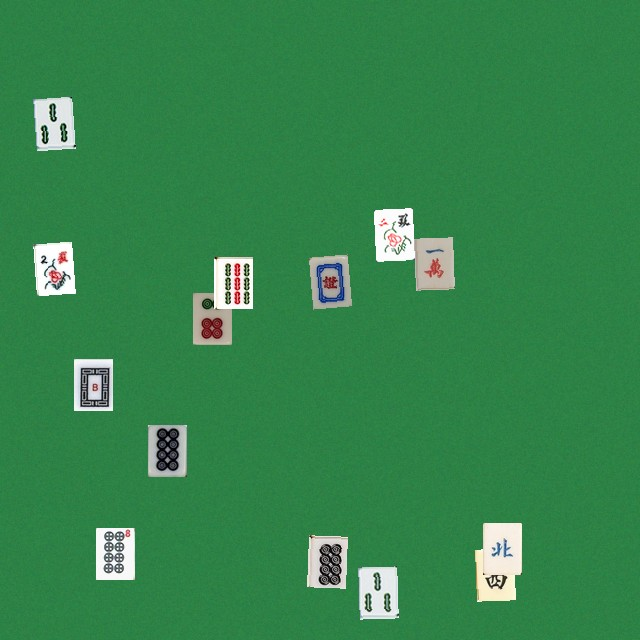tile: (358, 566, 397, 618), (33, 96, 72, 148), (307, 535, 346, 587), (33, 241, 72, 293), (192, 292, 231, 344), (73, 358, 112, 410), (308, 254, 347, 306), (373, 208, 412, 260), (414, 237, 453, 289), (475, 548, 514, 600), (213, 256, 252, 308), (147, 424, 186, 476), (95, 527, 134, 579), (482, 522, 521, 574)
